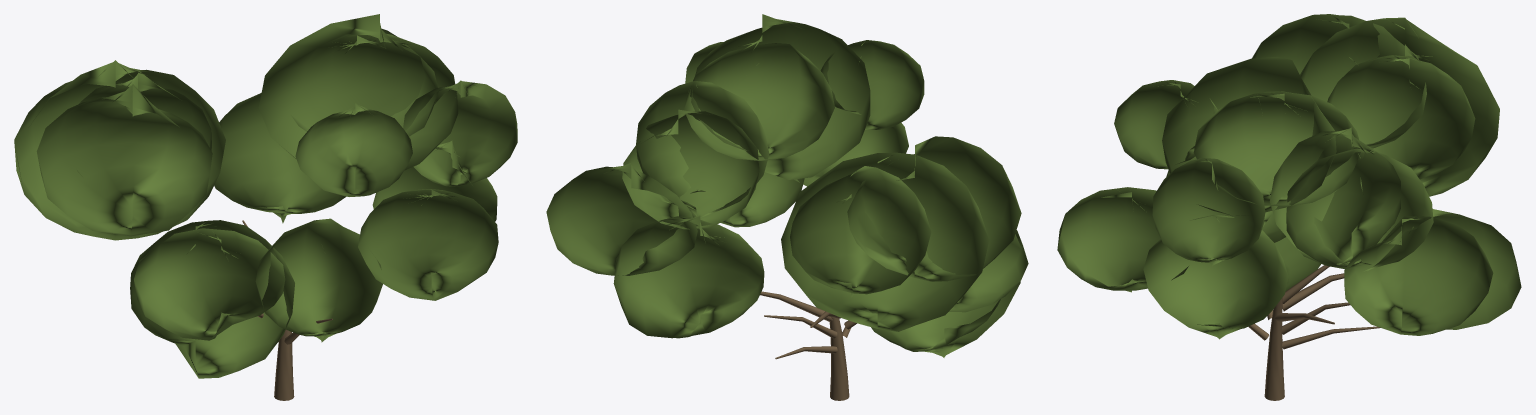
The model's file is field_willow_c_lod0.glb.
3 views of the same model, side by side, from view 1: azimuth 30°, elevation 25°; view 2: azimuth 150°, elevation 25°; view 3: azimuth 270°, elevation 25° (orthographic). The views are drawn at different scales.
Parts seen in each view (by area): view 1: foliage, bark; view 2: foliage, bark; view 3: foliage, bark.
Part boxes in pixels (x1,y1,x2,y2): foliage: [14, 14, 517, 378]; bark: [242, 220, 332, 400]; foliage: [546, 14, 1028, 357]; bark: [760, 291, 856, 400]; foliage: [1057, 14, 1521, 339]; bark: [1248, 265, 1380, 400].
Bounding box in the file's own units: 7.85 × 6.45 × 7.34.
